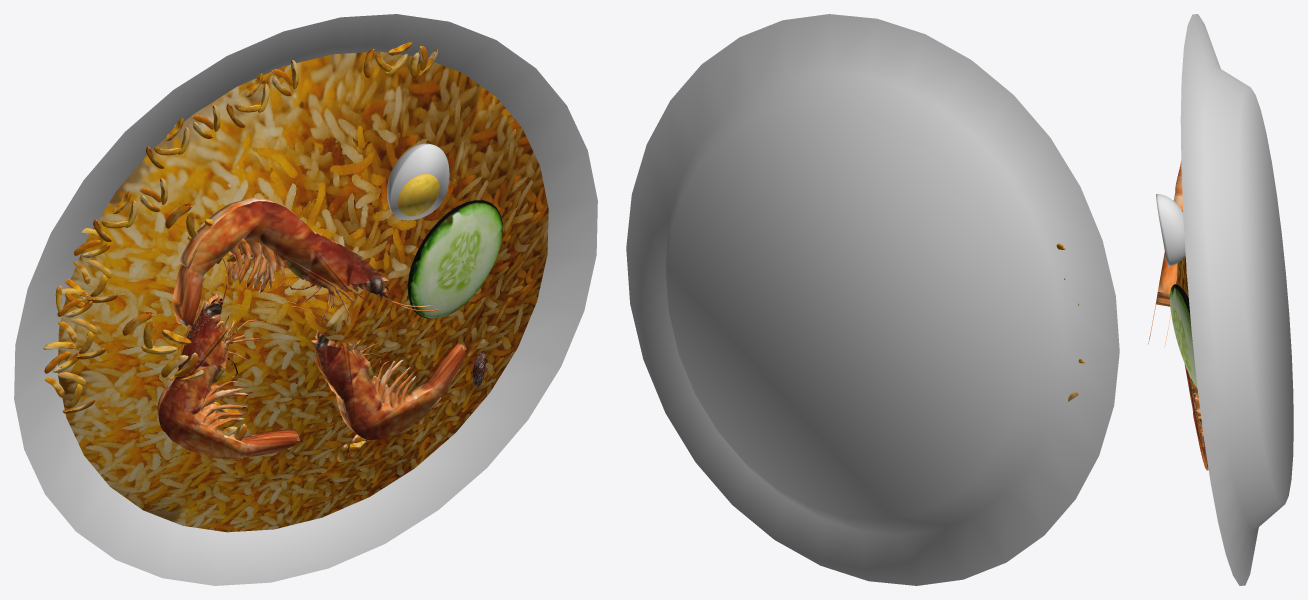
File: smallshrimpmandi-v4.glb
3 views of the same model, side by side, from view 1: azimuth 30°, elevation 25°; view 2: azimuth 150°, elevation 25°; view 3: azimuth 270°, elevation 25° (orthographic). The views are drawn at different scales.
Parts seen in each view (by area): view 1: Cone, Circle.002, Vert.002, Vert, Vert.001, Sphere.004, Sphere, Plane.025, Plane.004, Plane.011, Plane.012, Plane.005 (+4 smaller); view 2: Circle.002; view 3: Circle.002, Sphere, Sphere.004, Vert.002, Vert.001, Cone.
Part boxes in pixels (x1,y1,x2,y2): Cone: (58, 51, 548, 532); Circle.002: (14, 14, 597, 585); Vert.002: (172, 197, 442, 327); Vert: (157, 257, 300, 459); Vert.001: (282, 300, 466, 439); Sphere.004: (407, 200, 502, 318); Sphere: (387, 143, 449, 220); Plane.025: (122, 312, 206, 380); Plane.004: (43, 341, 95, 413); Plane.011: (226, 60, 298, 127); Plane.012: (363, 42, 437, 78); Plane.005: (57, 288, 105, 359); Circle.002: (626, 14, 1119, 585); Circle.002: (1180, 14, 1293, 585); Sphere: (1156, 194, 1185, 266); Sphere.004: (1170, 284, 1197, 388); Vert.002: (1148, 161, 1182, 346); Vert.001: (1184, 364, 1208, 470); Cone: (1176, 210, 1197, 391).
Bounding box in the file's own units: 7.81 × 7.77 × 1.98.
Materials: 21 (19 with a texture image).
